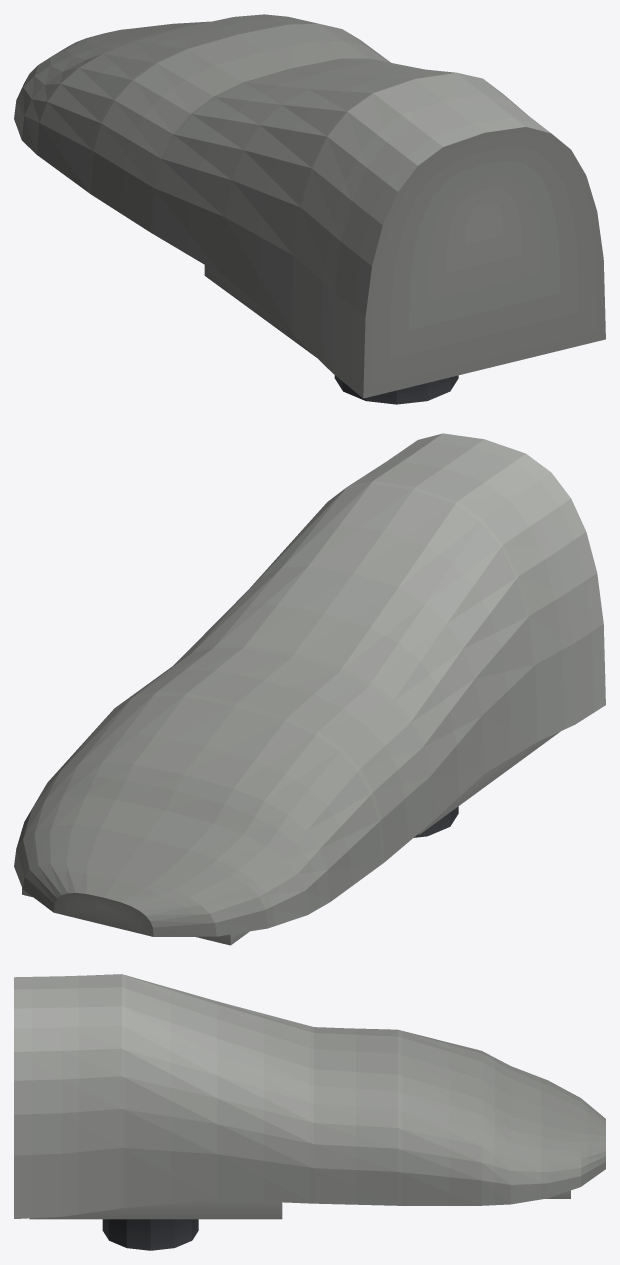
The model's file is streetlight_aeacmdp.obj.
3 renders of one model, top to bottom at view 1: azimuth 30°, elevation 25°; view 2: azimuth 150°, elevation 25°; view 3: azimuth 270°, elevation 25°, orthographic. The views are drawn at different scales.
Parts seen in each view (by area): view 1: fixture; view 2: fixture; view 3: fixture.
Boxes of the visible parts, x1,y1,x2,y2 form: fixture: (14,14,605,404); fixture: (14,433,605,945); fixture: (14,974,605,1250).
Bounding box in the file's own units: 0.325 × 0.3313 × 0.7308.
